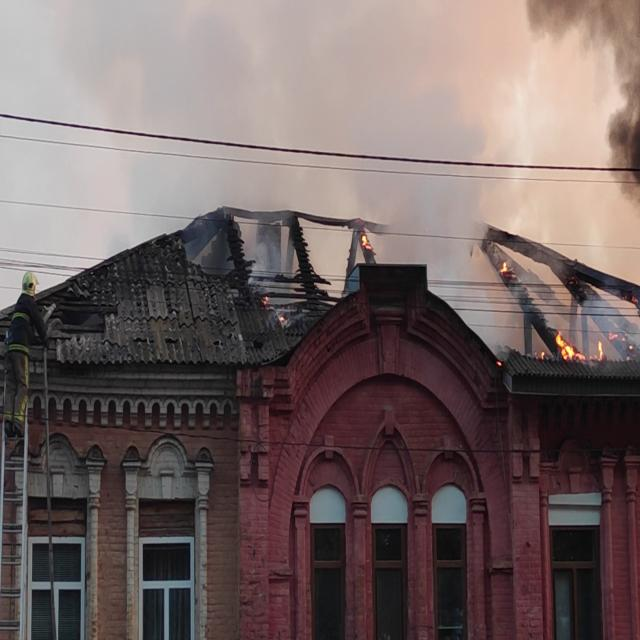fire: (556, 316, 598, 362)
smoke: (528, 0, 640, 200), (396, 126, 461, 230)
